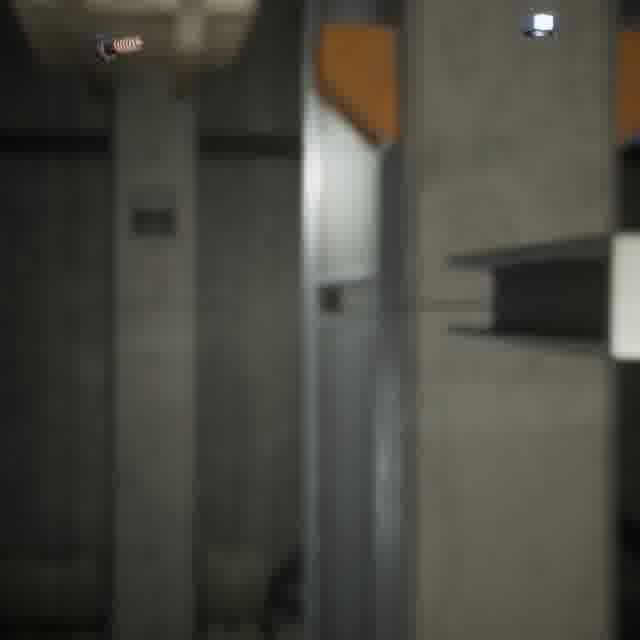bolt: (87, 29, 149, 65)
nut: (517, 10, 562, 41)
